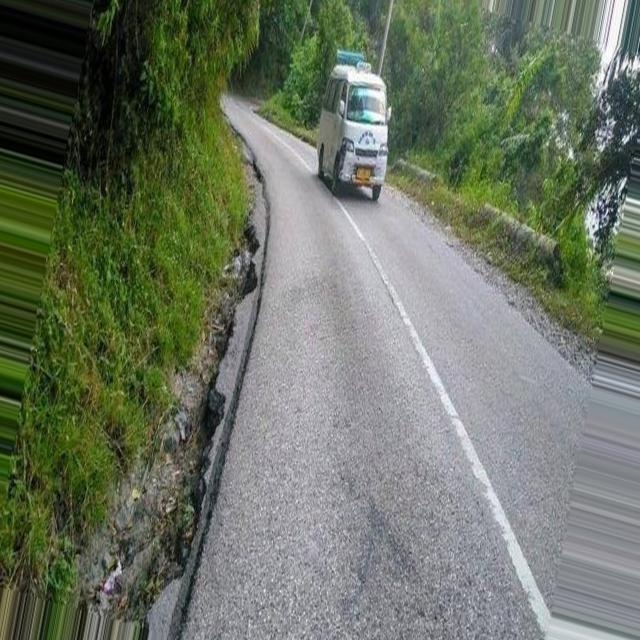Pinggir: (99, 145, 300, 640)
